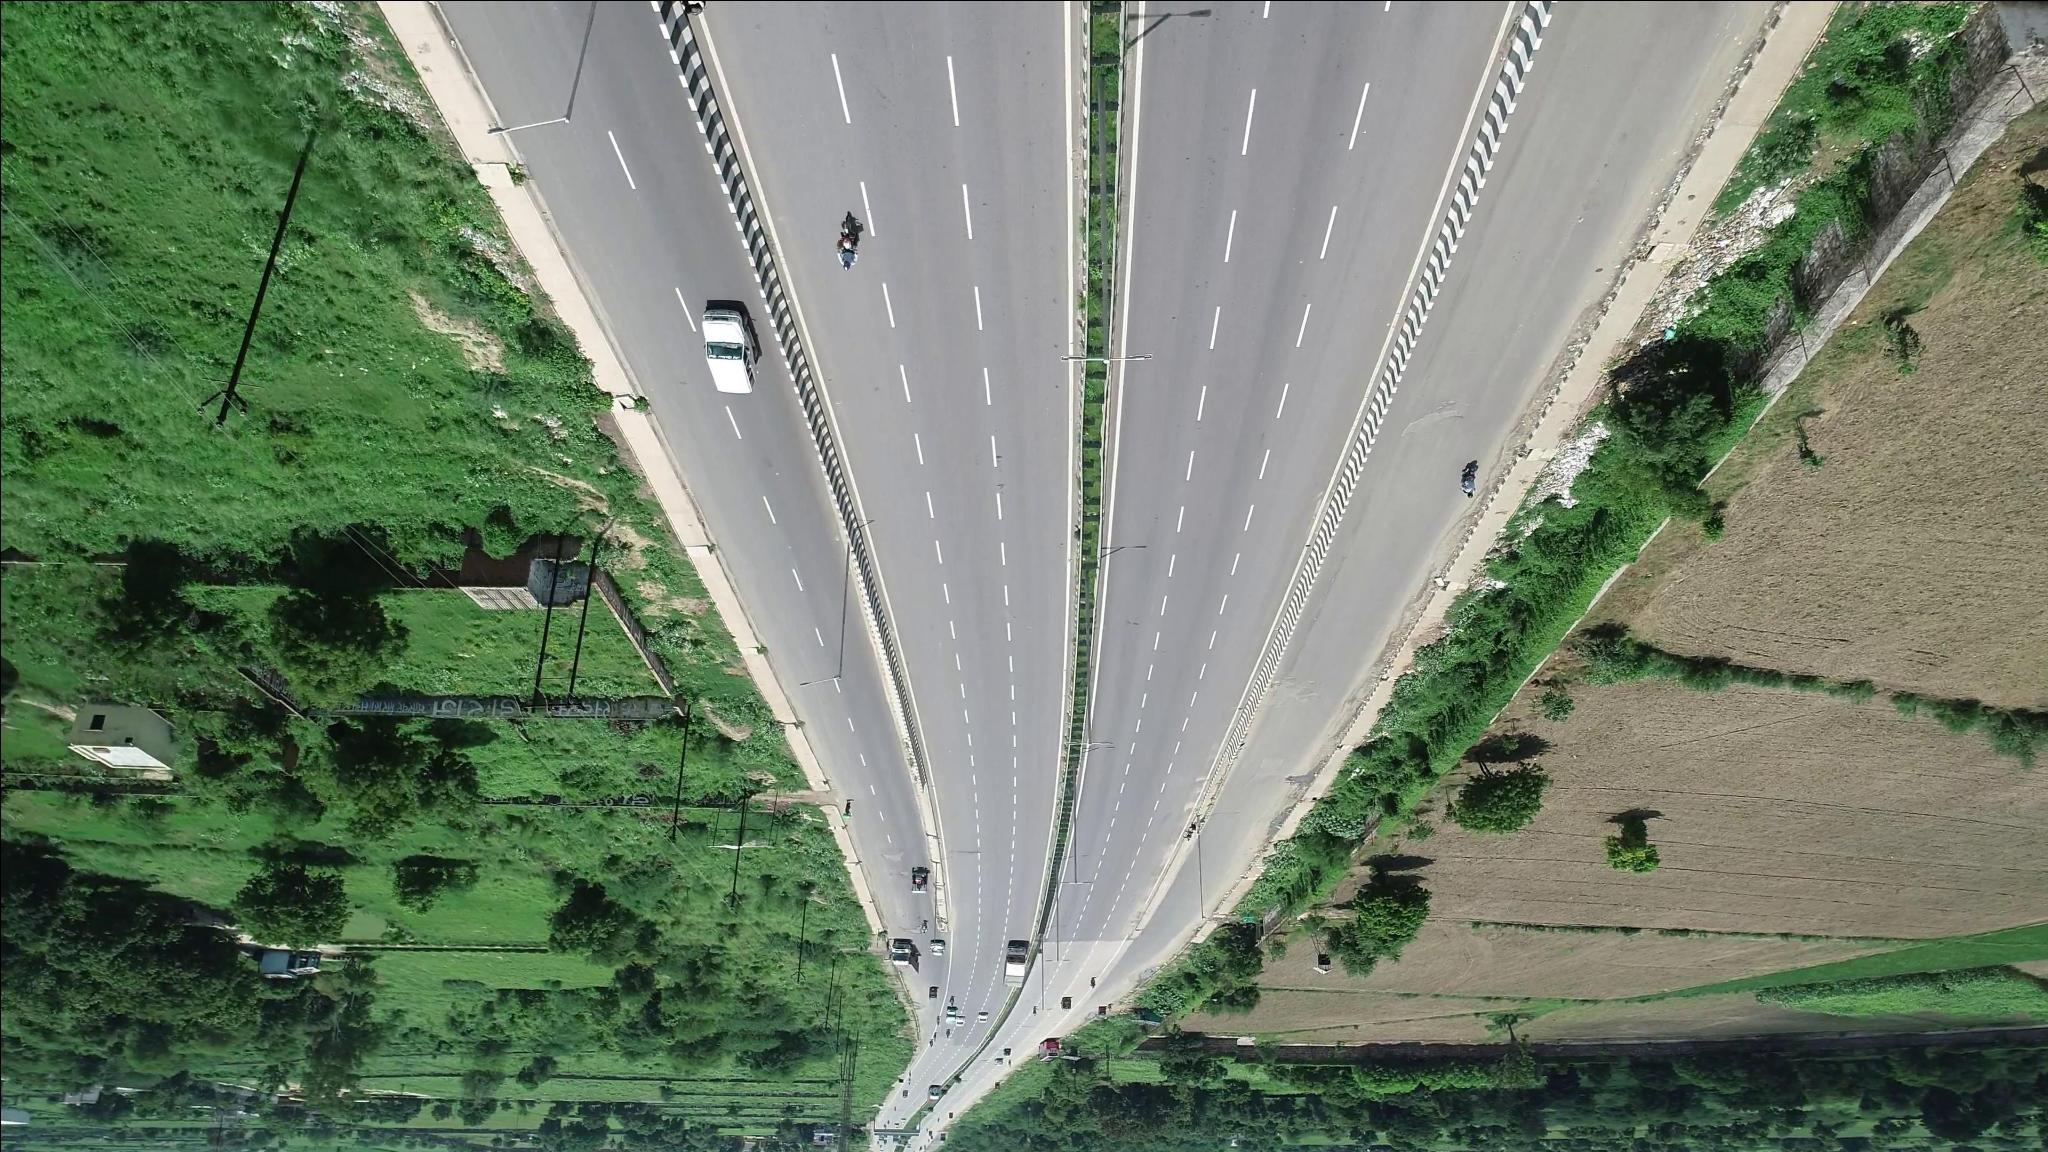Road_side_garbage: (1657, 211, 1777, 338), (1542, 433, 1606, 504)
